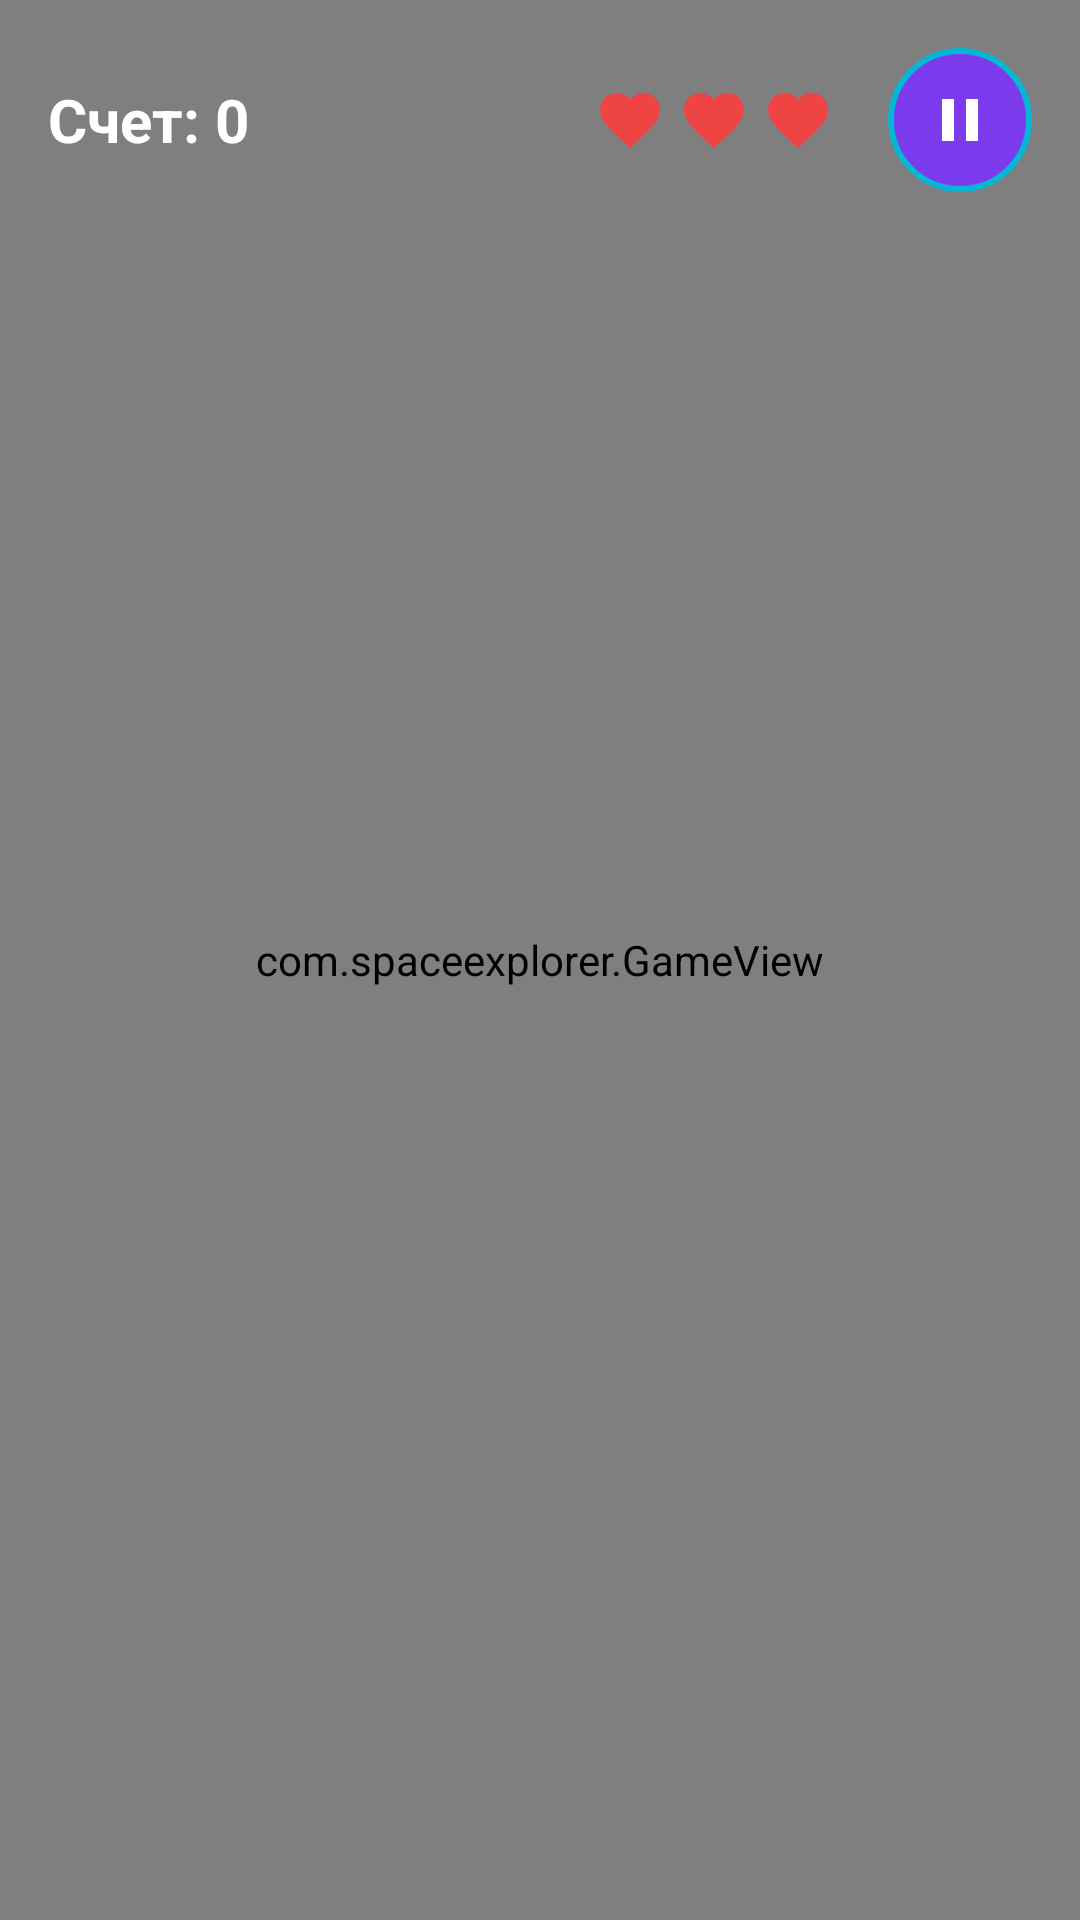

Icon click points for this 1080*1920 phone screenshot, format (x=x, y=y):
heart: (x=630, y=120), (x=714, y=120), (x=798, y=120)
Пауза: (x=960, y=120)
